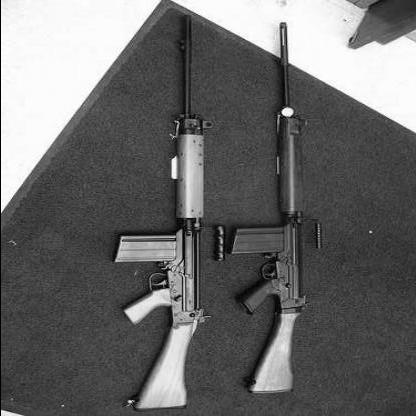rifle: (215, 8, 325, 400), (113, 8, 213, 415)
